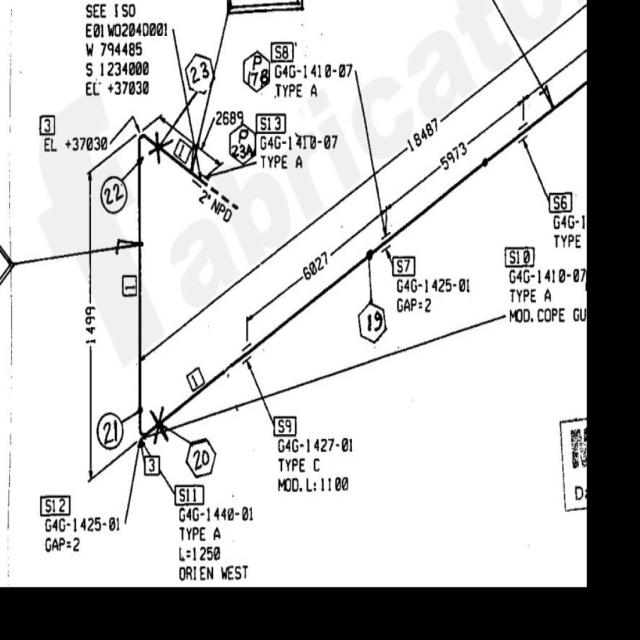Item number: (503, 243, 537, 270), (38, 492, 72, 518), (253, 110, 287, 135), (173, 482, 206, 507), (547, 189, 575, 215), (184, 362, 207, 393), (390, 253, 417, 279), (269, 38, 296, 64), (272, 413, 298, 439), (120, 272, 139, 300), (38, 112, 57, 137), (143, 453, 162, 477)
Measrement: (136, 4, 582, 367), (380, 90, 524, 219), (246, 200, 386, 329)
Pipeline: (134, 80, 583, 437)
Symbol: (132, 121, 170, 173), (136, 403, 171, 446), (516, 117, 533, 149), (378, 227, 395, 256), (240, 340, 256, 370)
Weld number: (182, 49, 217, 97), (356, 299, 389, 348), (183, 436, 219, 480), (98, 175, 131, 217), (95, 411, 124, 453)
other: (82, 1, 171, 99), (176, 504, 257, 583), (508, 264, 586, 326), (275, 436, 356, 495), (258, 131, 344, 175), (273, 60, 359, 101), (42, 515, 124, 556), (393, 276, 473, 316), (42, 135, 112, 156), (550, 212, 585, 250)
